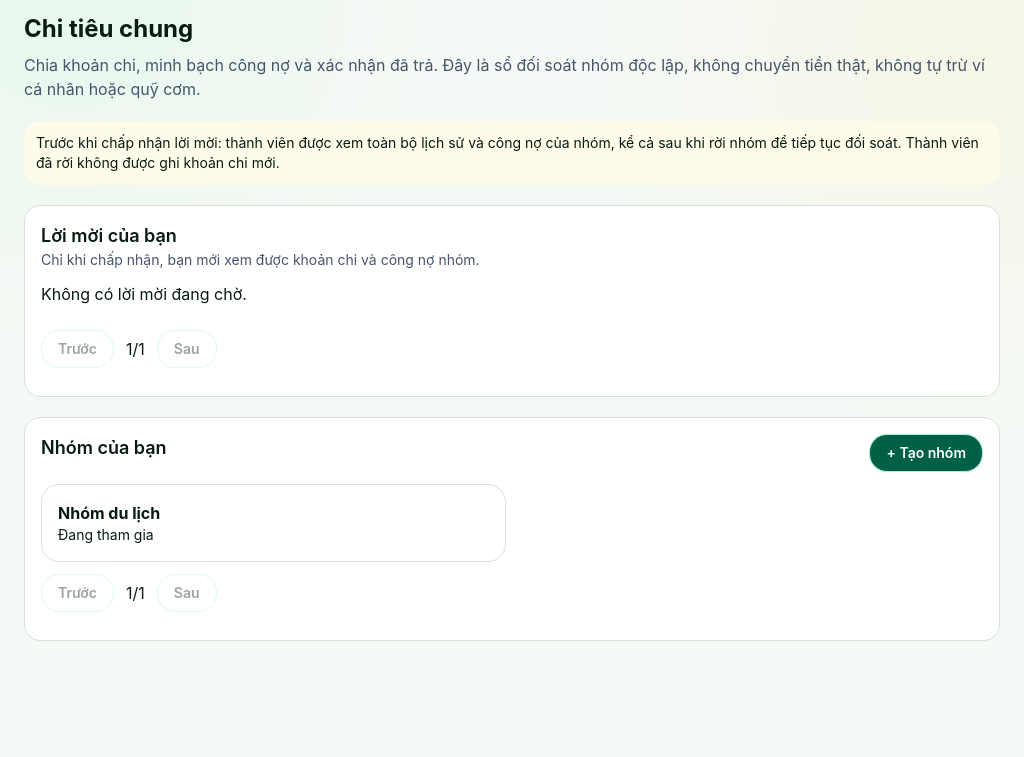
Test: Chi tiêu chung responsive flows › former members have history and settlement access but no new expense button
The width and height of the screenshot is (1024, 757).
Click the button "Nhóm du lịch Đang tham gia".
click(109, 513)  # box 41,484 -> 506,562
(page scrolled)
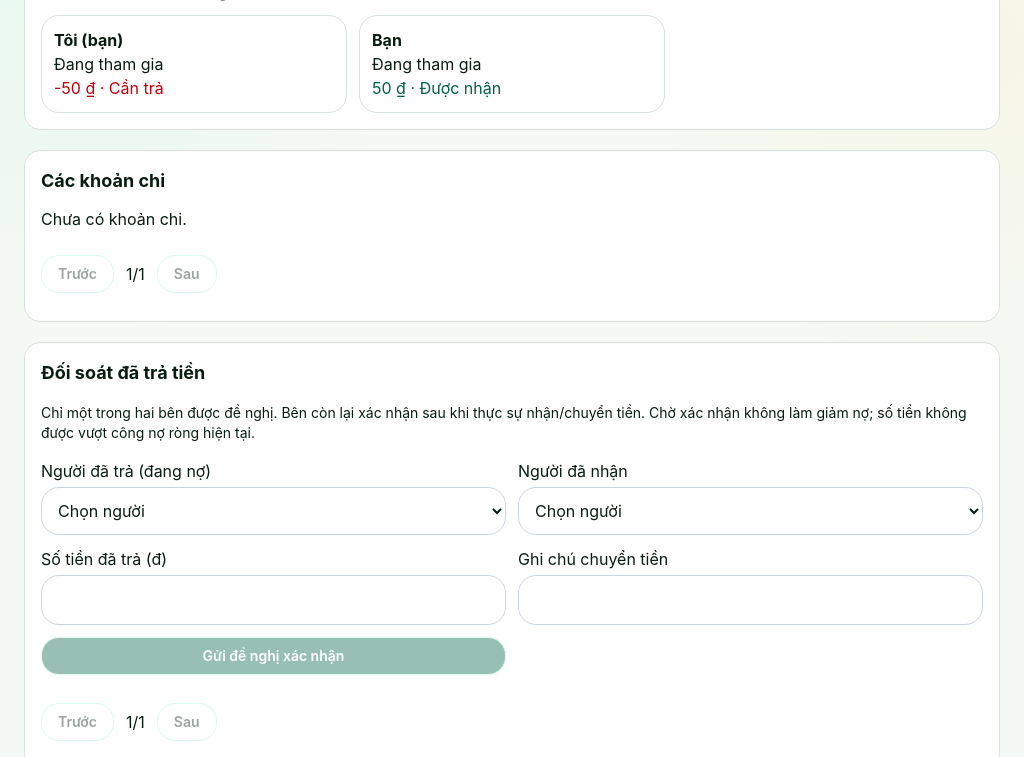
Result: the heading "Đối soát đã trả tiền" is shown at 41,362 -> 205,383
